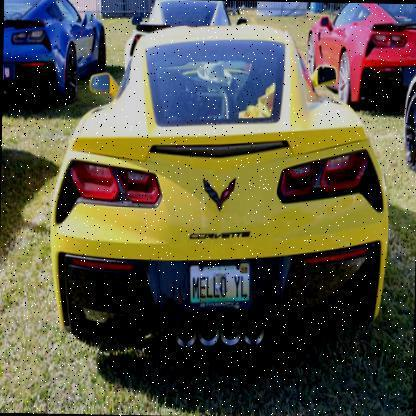License-Plate: (187, 261, 254, 309)
